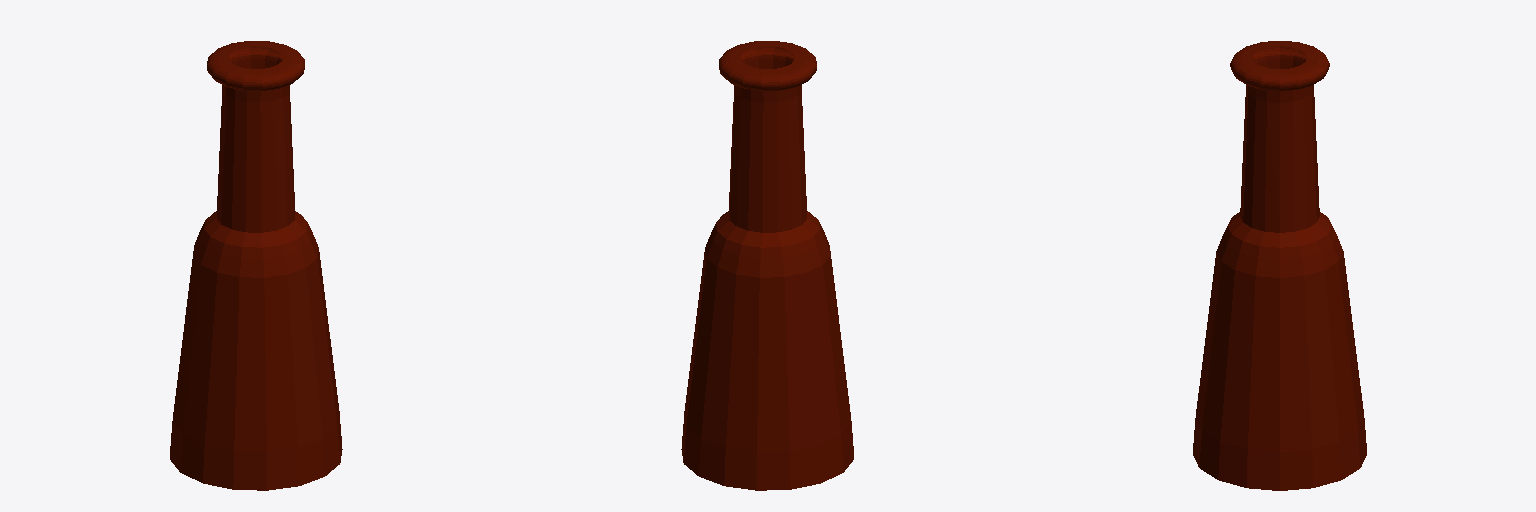
File: Bottle_A.obj
3 renders of one model, left to right at view 1: azimuth 30°, elevation 25°; view 2: azimuth 150°, elevation 25°; view 3: azimuth 270°, elevation 25°, orthographic.
Parts seen in each view (by area): view 1: Bottle_A; view 2: Bottle_A; view 3: Bottle_A.
Part boxes in pixels (x1,y1,x2,y2): Bottle_A: (170,41,342,490); Bottle_A: (681,41,853,490); Bottle_A: (1193,41,1366,490).
Bounding box in the file's own units: 1.48 × 3.71 × 1.48.